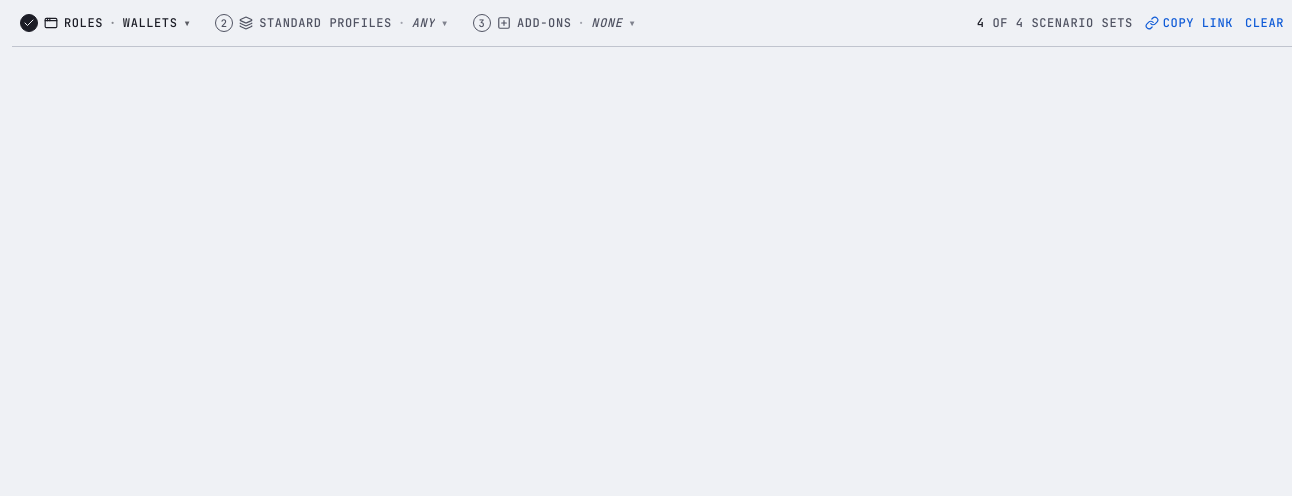
Test: FilterBar guidance › annotates a profile with no set for the selected role instead of hiding it
Click the button "2 Standard Profiles · Any ▾": (332, 23) [207, 10, 457, 36]
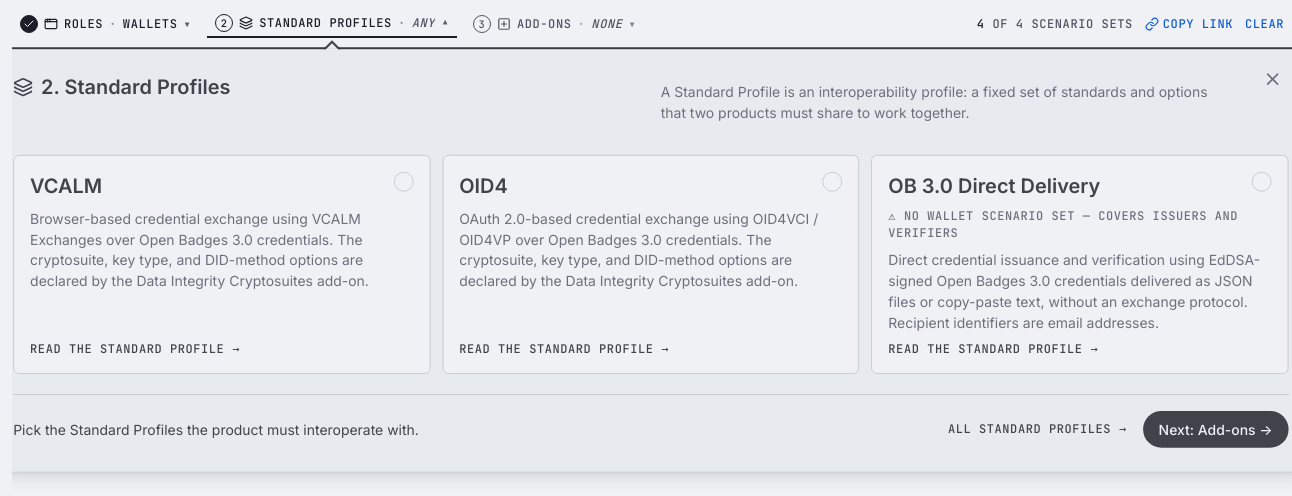
Expected: the switch labelled "OB 3.0 Direct Delivery" shows "No Wallet scenario set — covers Issuers and Verifiers", [873, 157, 1291, 377]
